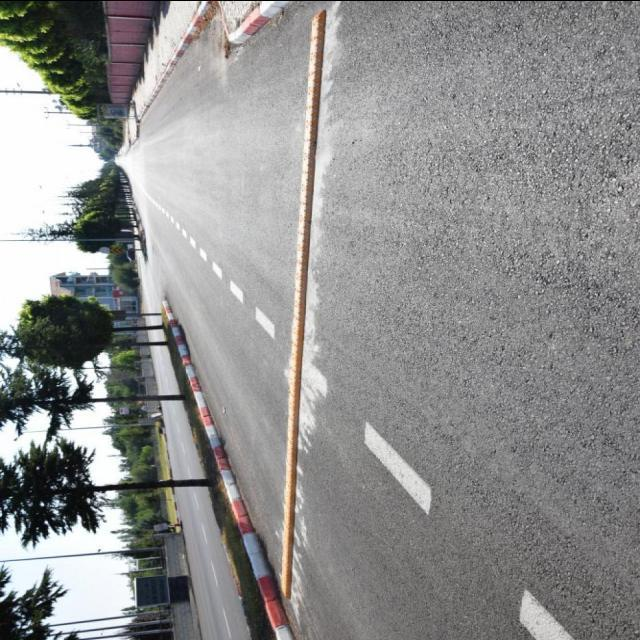speedbreaker: (274, 6, 334, 598)
